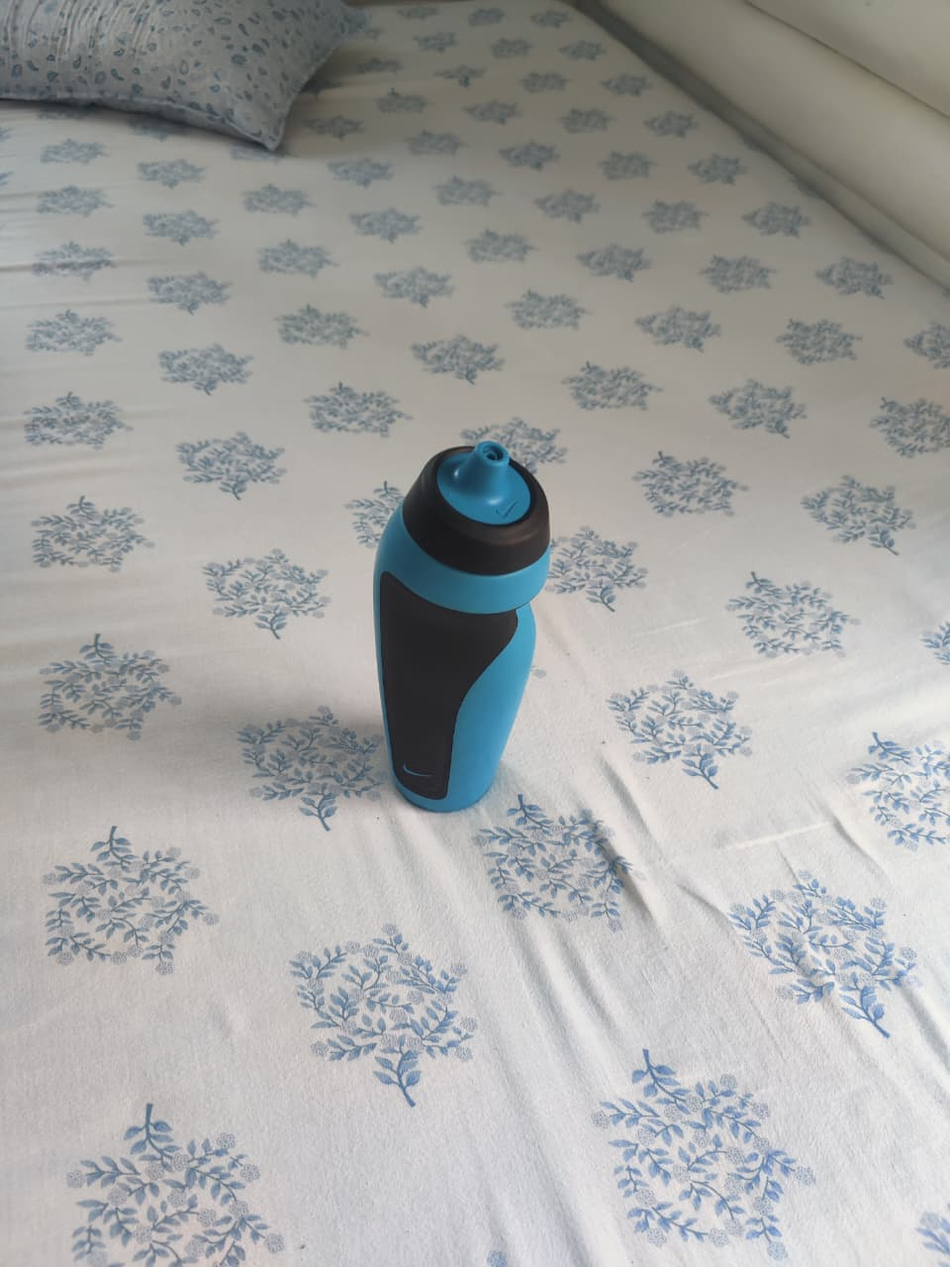bottle: (372, 440, 551, 813)
